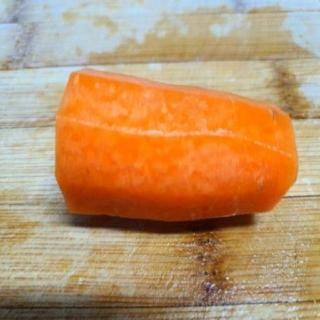carrot: (51, 67, 302, 225)
